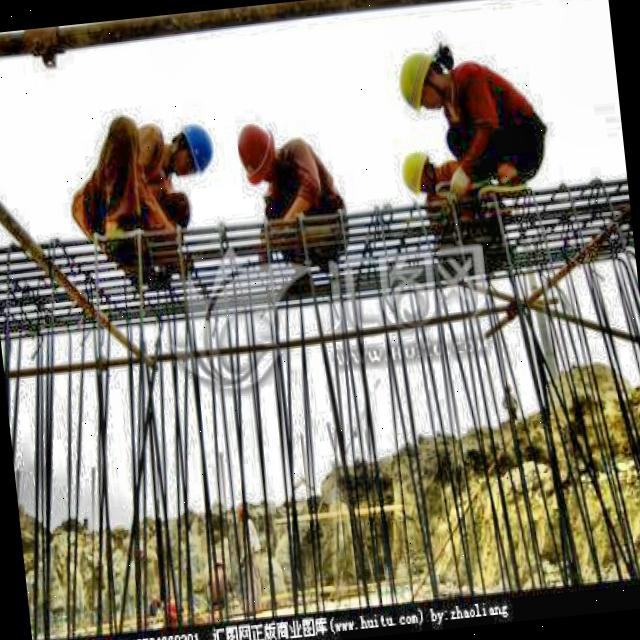helmet: (229, 120, 285, 188), (390, 52, 451, 114), (164, 120, 218, 180), (400, 150, 440, 196)
